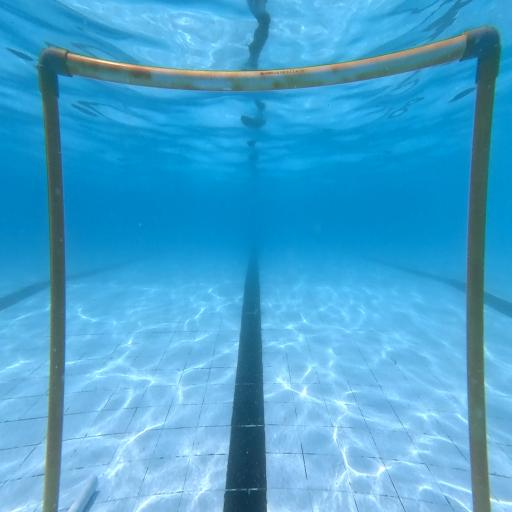gate: (37, 26, 500, 512)
